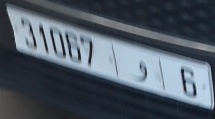0: (50, 26, 63, 58)
1: (38, 22, 48, 54)
3: (18, 14, 37, 50)
6: (176, 64, 199, 101), (66, 31, 80, 63)
7: (80, 33, 97, 68)
waw: (129, 53, 152, 85)
